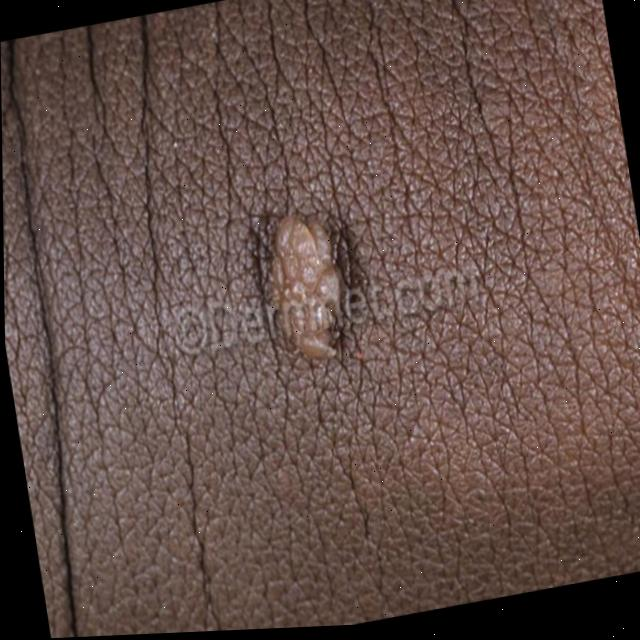Shingles: (250, 191, 360, 378)
